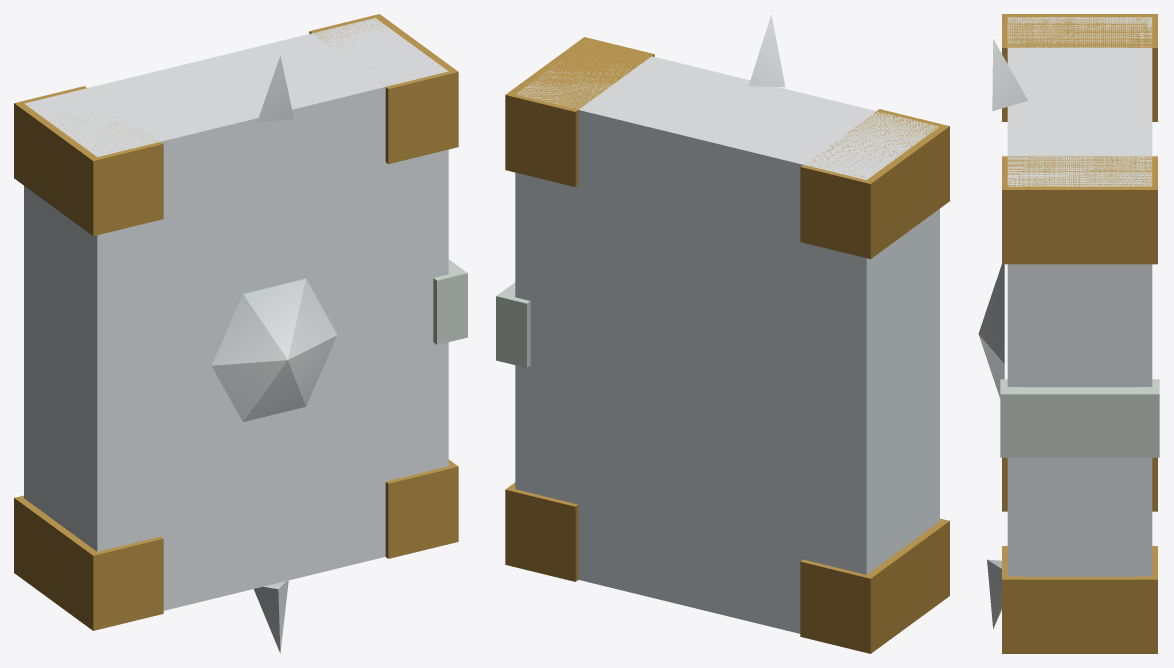
Rendered from mage_tome_4.gltf.
The picture shows the model from 3 angles, left to right: view 1: azimuth 30°, elevation 25°; view 2: azimuth 150°, elevation 25°; view 3: azimuth 270°, elevation 25°; orthographic projection.
Visible parts, largest first — view 1: mage_tome_4; view 2: mage_tome_4; view 3: mage_tome_4.
Part boxes in pixels (x1,y1,x2,y2): mage_tome_4: (14, 14, 467, 653); mage_tome_4: (496, 14, 949, 653); mage_tome_4: (978, 14, 1159, 653).
Size of the model in its own units: 0.4863 by 0.7442 by 0.2067.
Materials: 1 (1 with a texture image).
